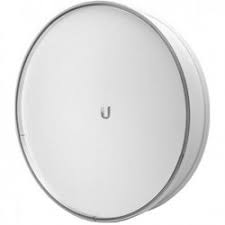ba: (11, 1, 217, 222)
